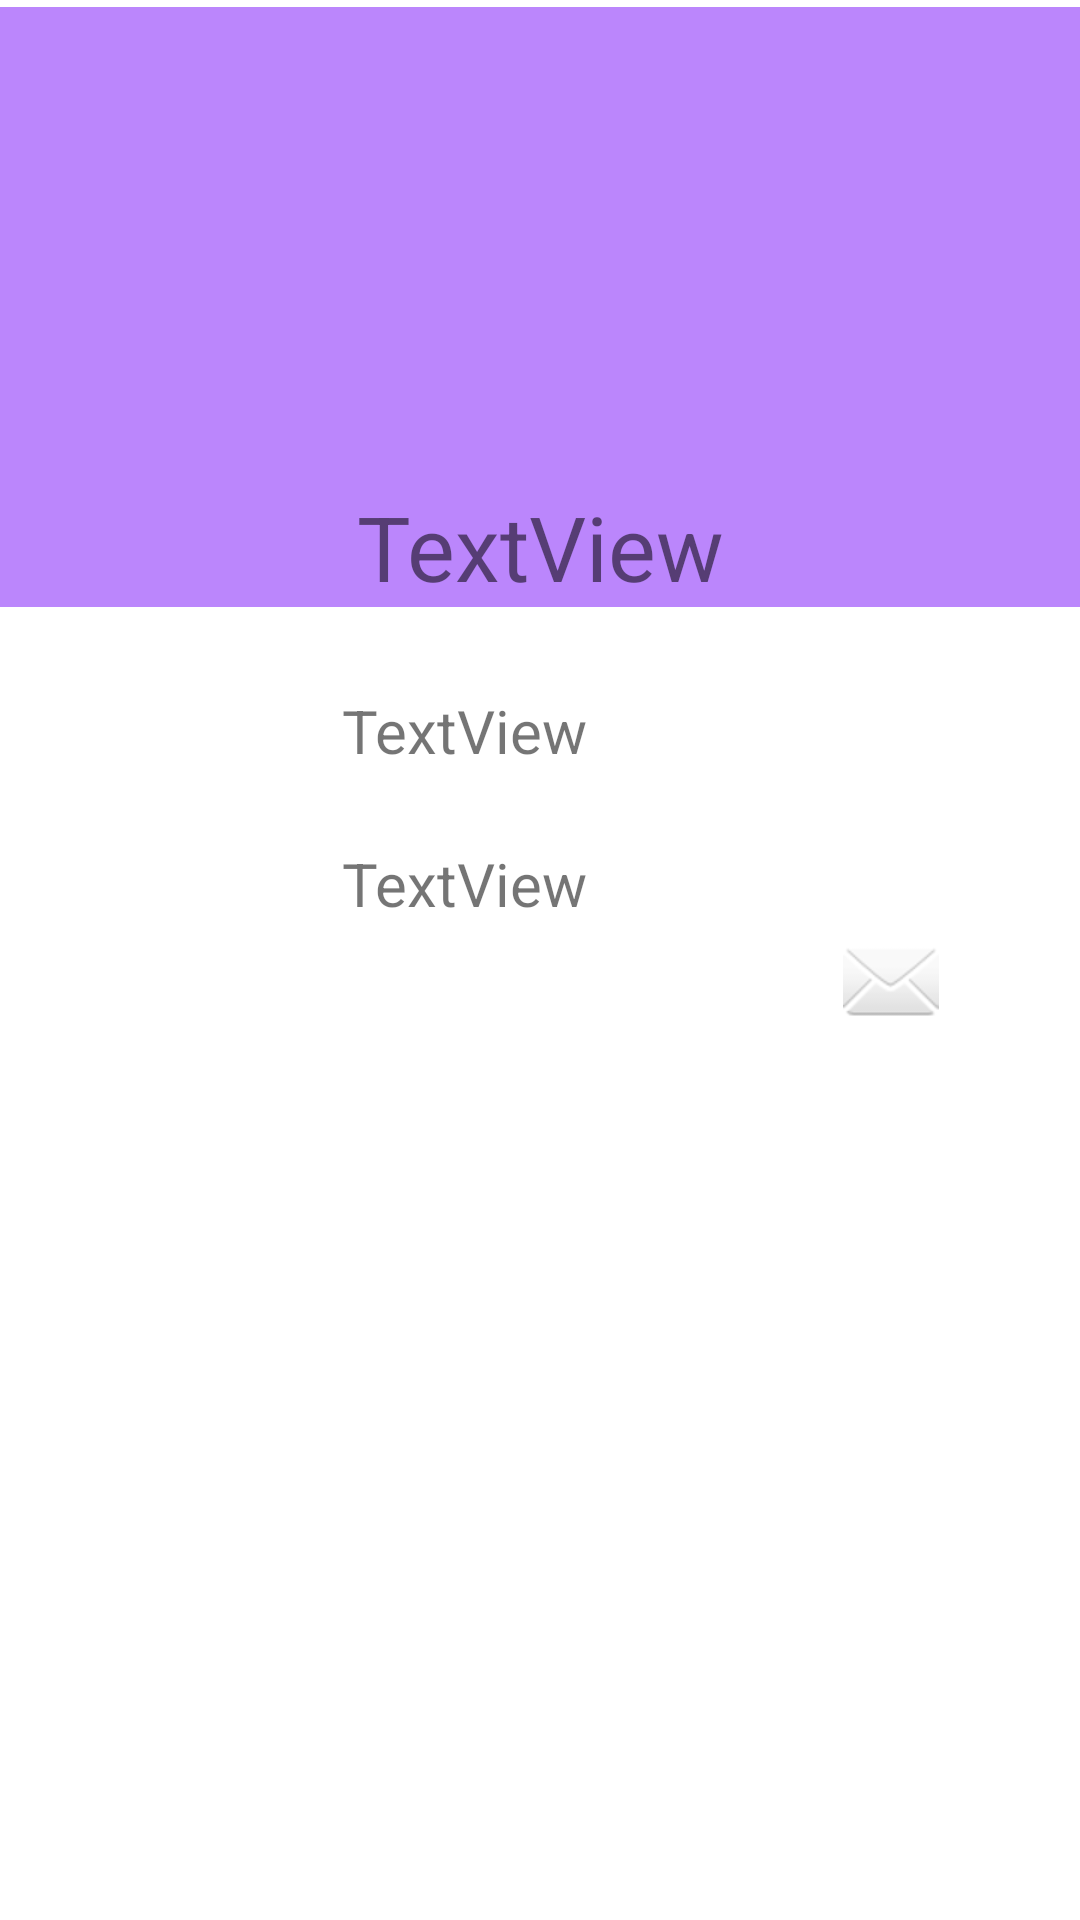

Locate icon controls on the screen. Image size 1080w x 1920h, boxes as box(x1, y1, x2, y2).
email: box(843, 950, 939, 1016)
